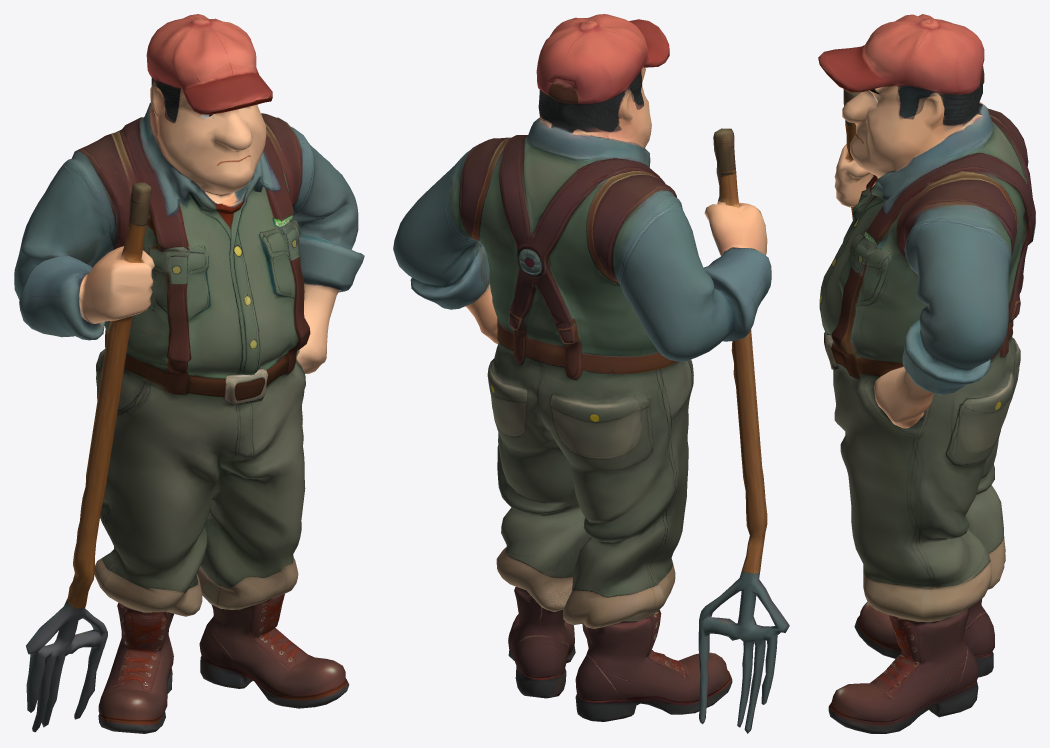
Rendered from npc_groundskeeper.glb.
The picture shows the model from 3 angles, left to right: view 1: azimuth 30°, elevation 25°; view 2: azimuth 150°, elevation 25°; view 3: azimuth 270°, elevation 25°; orthographic projection.
Size of the model in its own units: 1.05 by 1.91 by 0.5636.
Materials: 1 (1 with a texture image).
